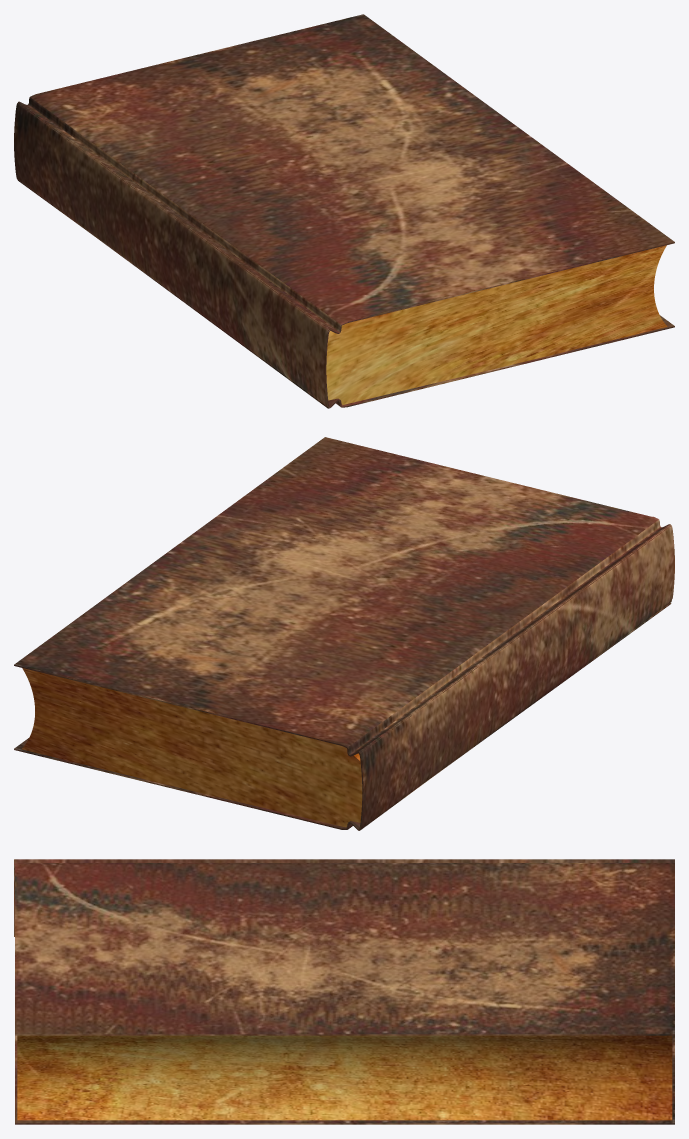
The model's file is Book3.FBX.
3 views of the same model, one above another, from view 1: azimuth 30°, elevation 25°; view 2: azimuth 150°, elevation 25°; view 3: azimuth 270°, elevation 25° (orthographic). The views are drawn at different scales.
Visible parts, largest first — view 1: Shape001, Arc001; view 2: Shape001, Arc001; view 3: Shape001, Arc001.
Boxes of the visible parts, left/top/right/bottom form: Shape001: left=14, top=14, right=674, bottom=408; Arc001: left=326, top=245, right=667, bottom=404; Shape001: left=14, top=437, right=674, bottom=830; Arc001: left=22, top=668, right=362, bottom=827; Shape001: left=14, top=859, right=674, bottom=1124; Arc001: left=17, top=1035, right=672, bottom=1120.
Bounding box in the file's own units: 9.15 × 2.13 × 14.13.
2 materials, 2 textured.
